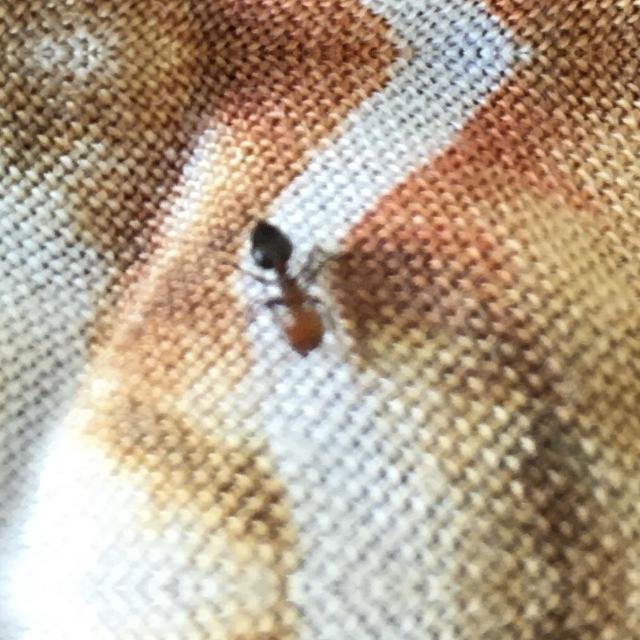Crematogaster: (242, 202, 338, 356)
